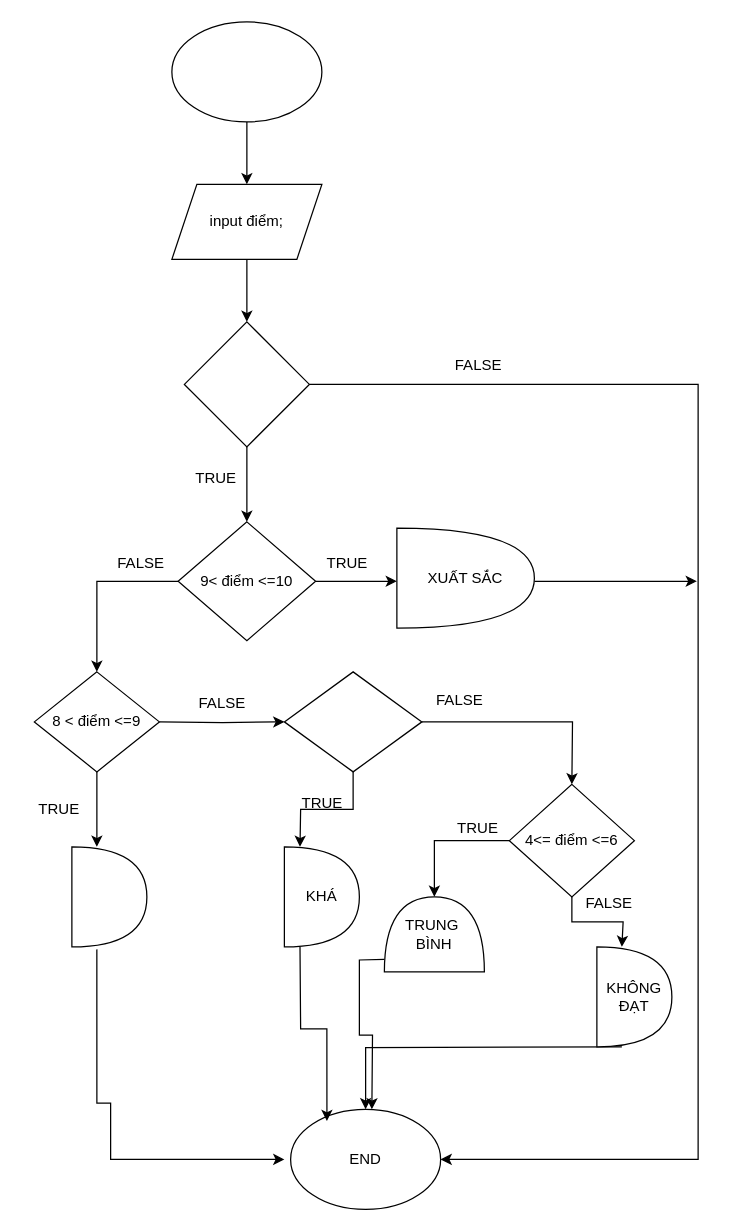
This 730x1231 diagram has some shape labels left out. Each missing label, with the centre of its shape:
0<= điểm <= 10: the point at 246,384
6< điểm <=8: the point at 352,721
GIỎI: the point at 109,896
START: the point at 246,71
